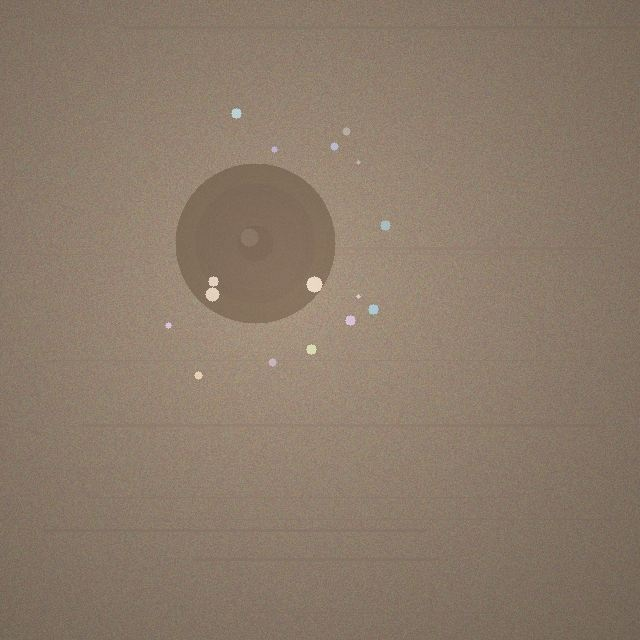overburn: (175, 163, 335, 323)
